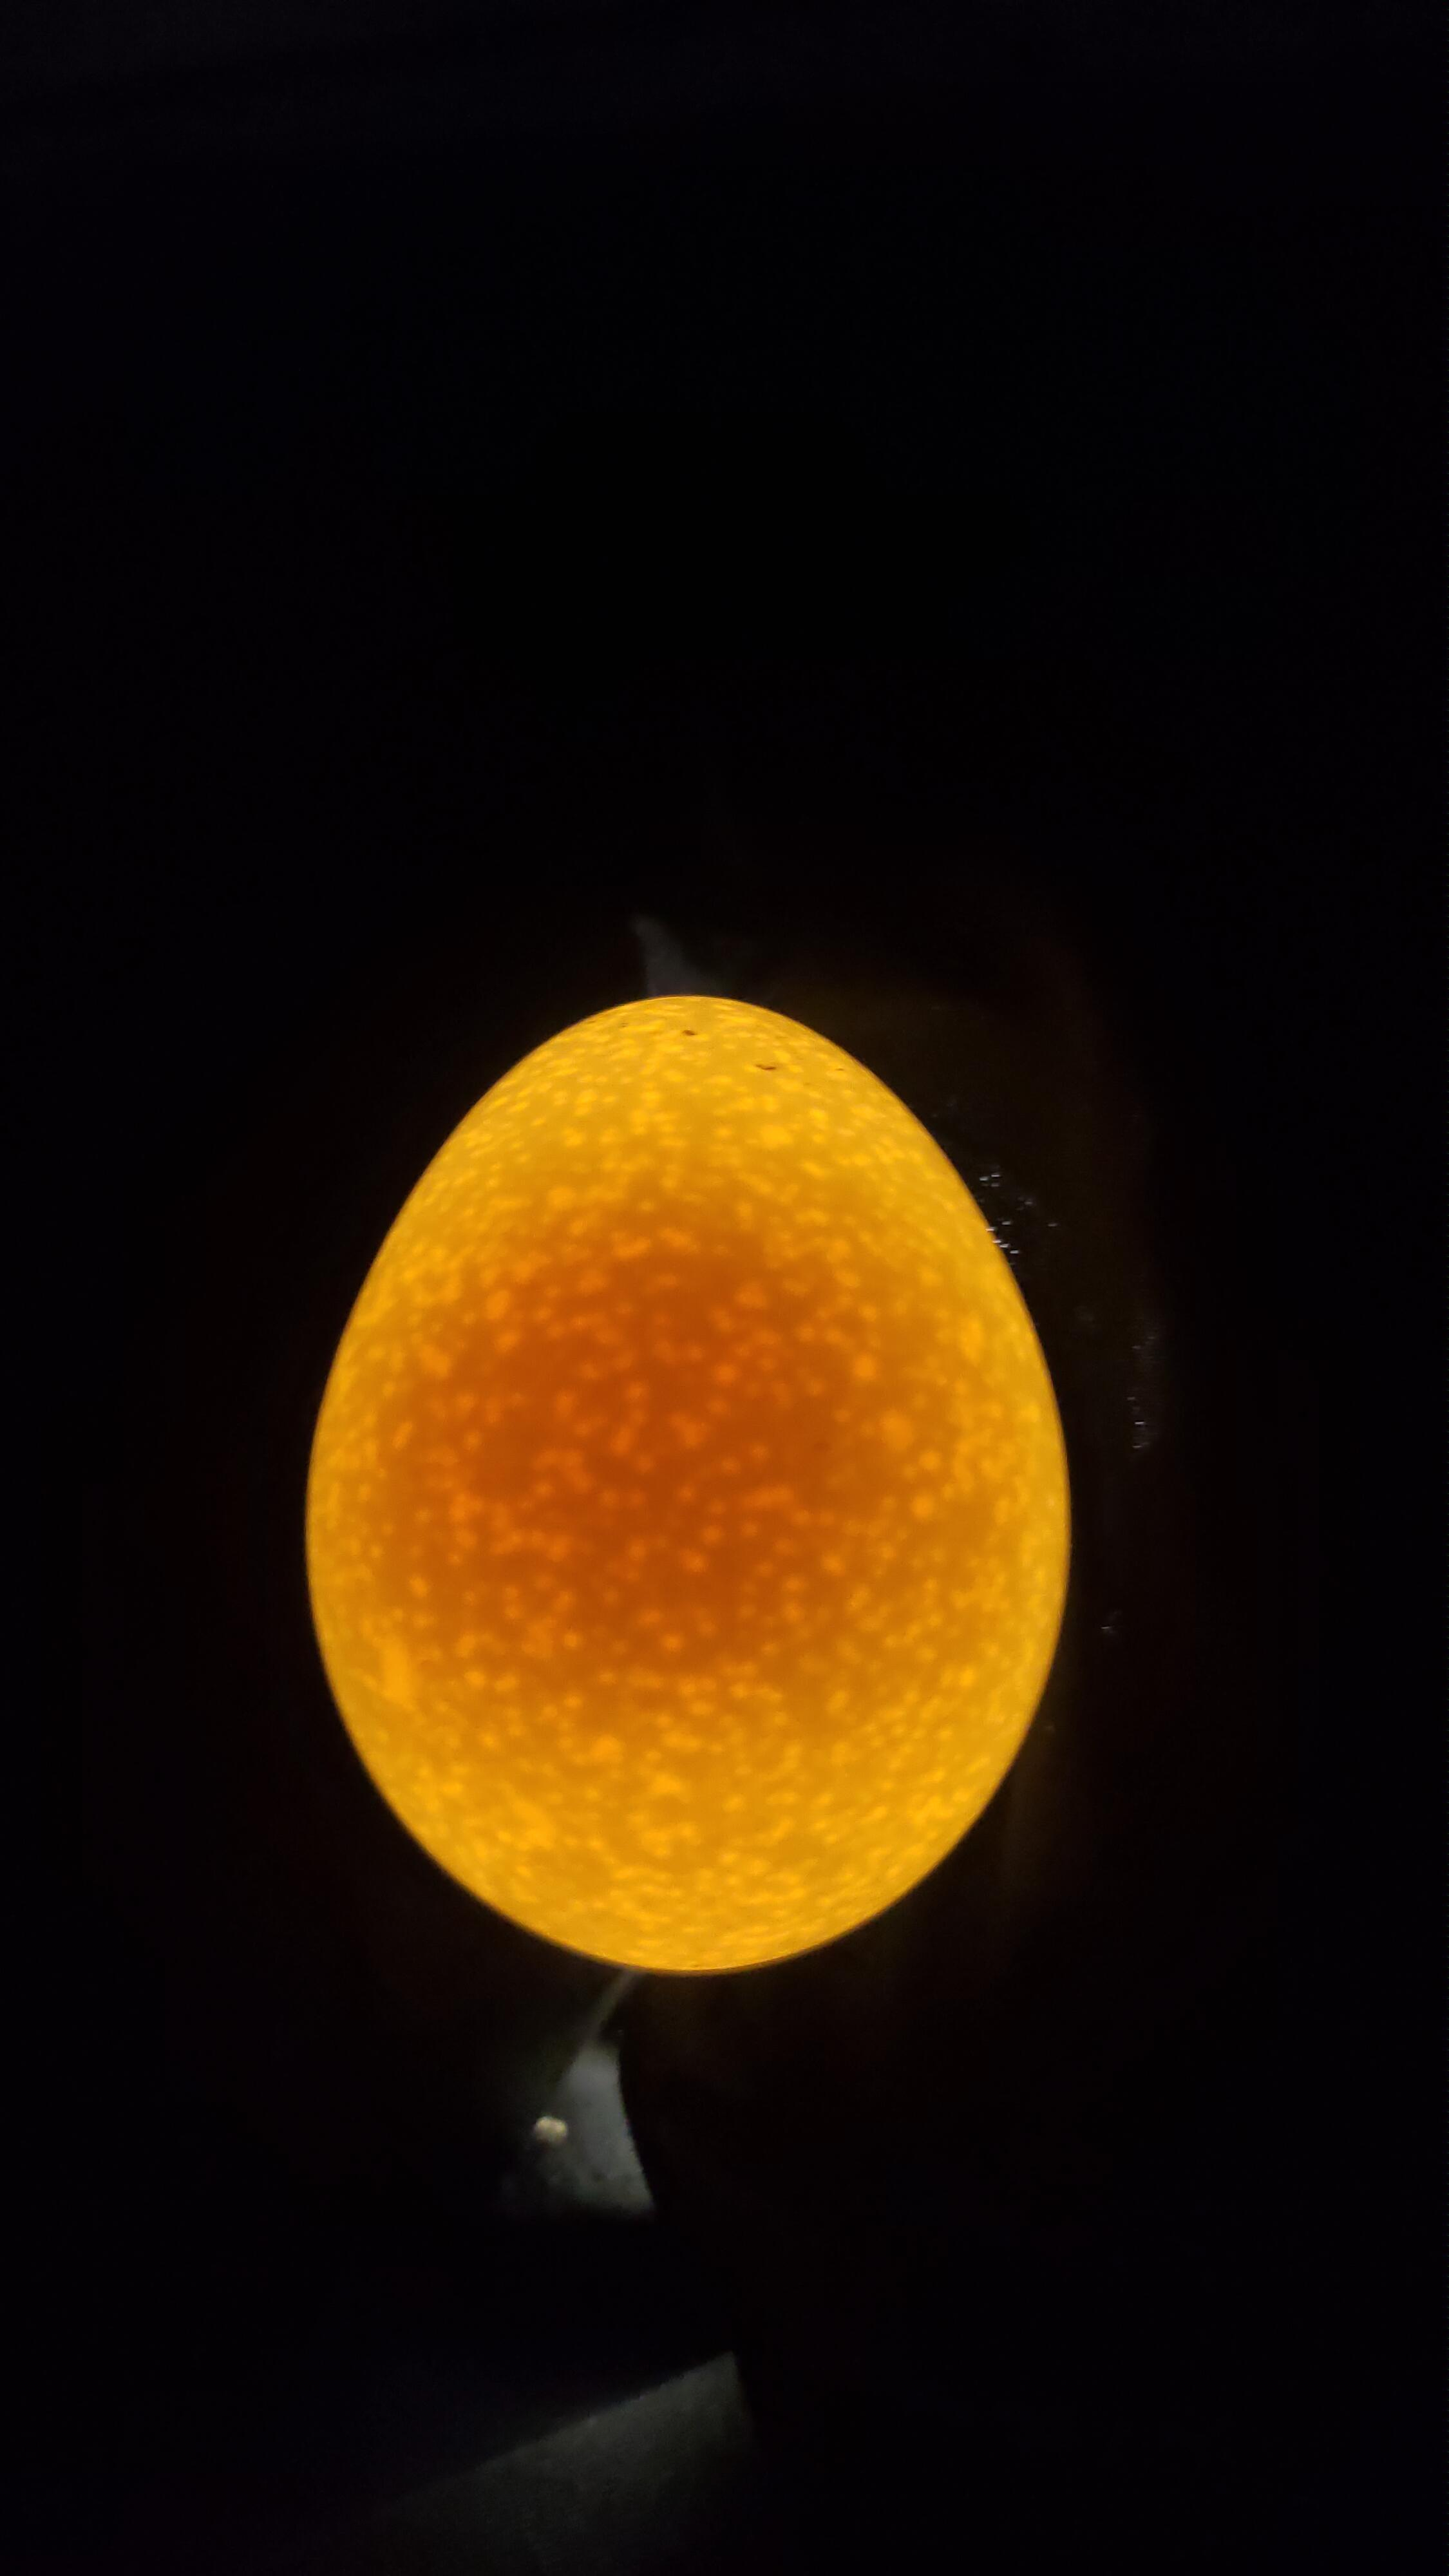A - Good: (244, 954, 1154, 2010)
